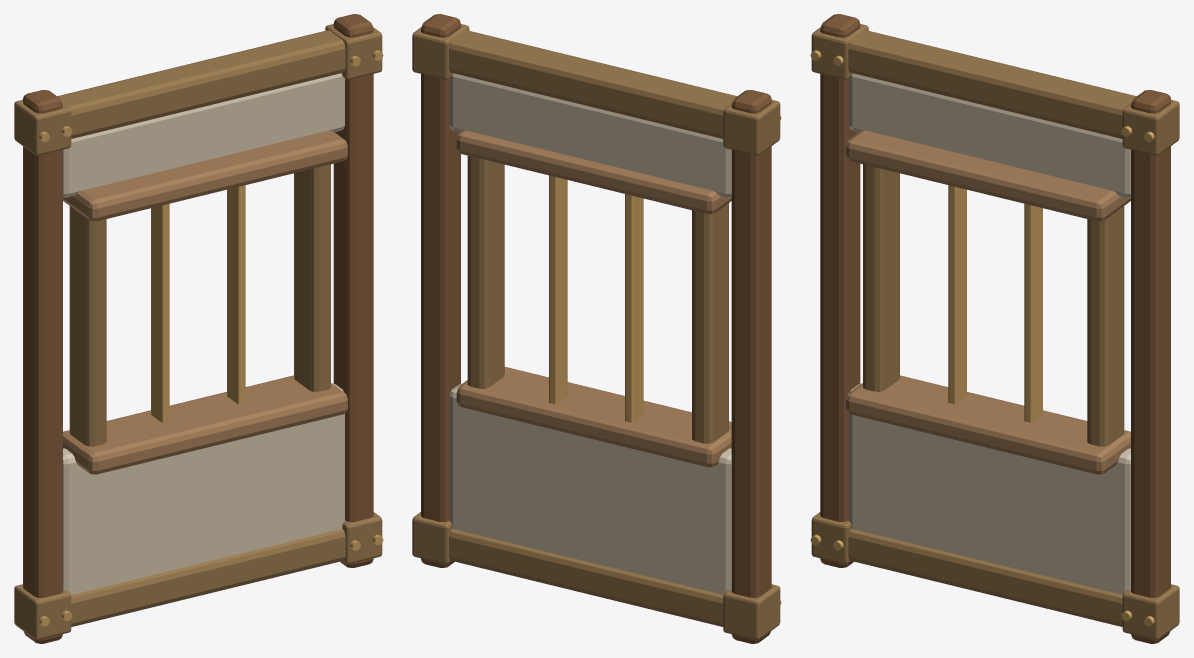
Rendered from window_wall.glb.
The picture shows the model from 3 angles, left to right: view 1: azimuth 30°, elevation 25°; view 2: azimuth 150°, elevation 25°; view 3: azimuth 330°, elevation 25°; orthographic projection.
Parts seen in each view (by area): view 1: window_wall; view 2: window_wall; view 3: window_wall.
Part boxes in pixels (bbox=[...]): window_wall: bbox=[14, 14, 383, 643]; window_wall: bbox=[412, 14, 781, 643]; window_wall: bbox=[810, 14, 1179, 643].
Size of the model in its own units: 2.01 by 3 by 0.36.
